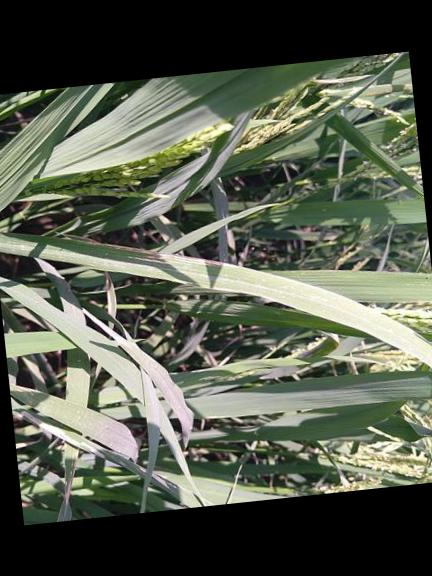Leaf Blight: (90, 240, 232, 264), (55, 450, 77, 522)
